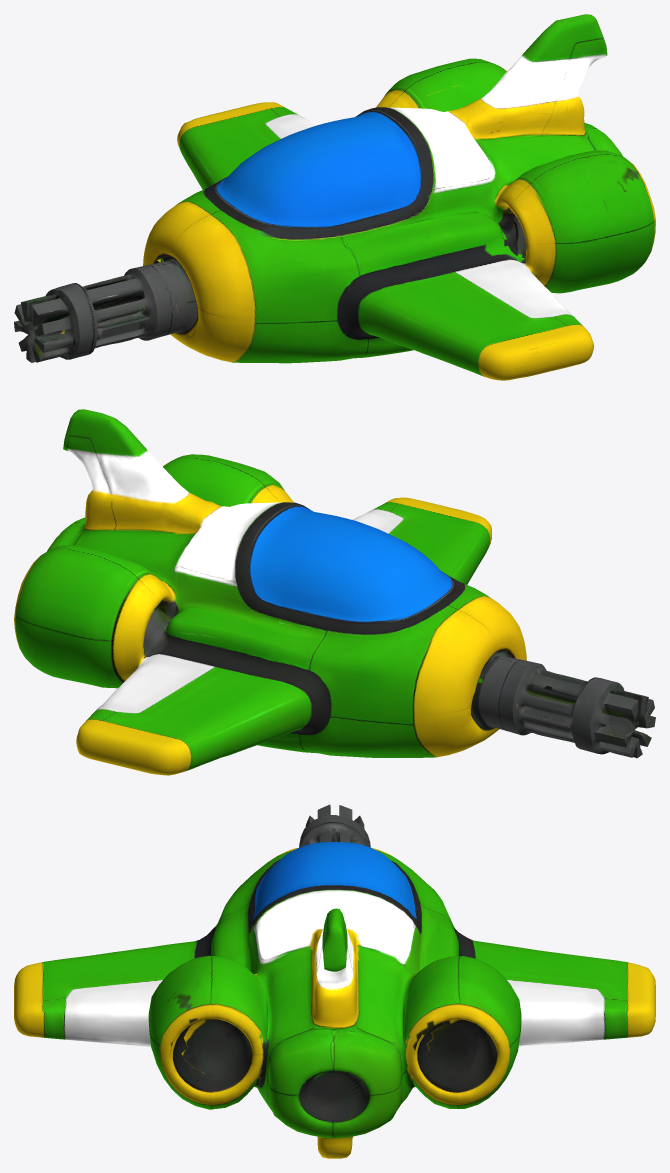
The model's file is Meshy_AI_Emerald_Starfighter_0709063619_texture.glb.
3 views of the same model, one above another, from view 1: azimuth 30°, elevation 25°; view 2: azimuth 150°, elevation 25°; view 3: azimuth 270°, elevation 25° (orthographic).
Visible parts, largest first — view 1: Mesh_0; view 2: Mesh_0; view 3: Mesh_0.
Boxes of the visible parts, left/top/right/bottom form: Mesh_0: left=14, top=14, right=655, bottom=380; Mesh_0: left=14, top=409, right=655, bottom=775; Mesh_0: left=14, top=804, right=655, bottom=1158.
Bounding box in the file's own units: 1.92 × 0.8263 × 1.86.
1 material, 1 textured.
